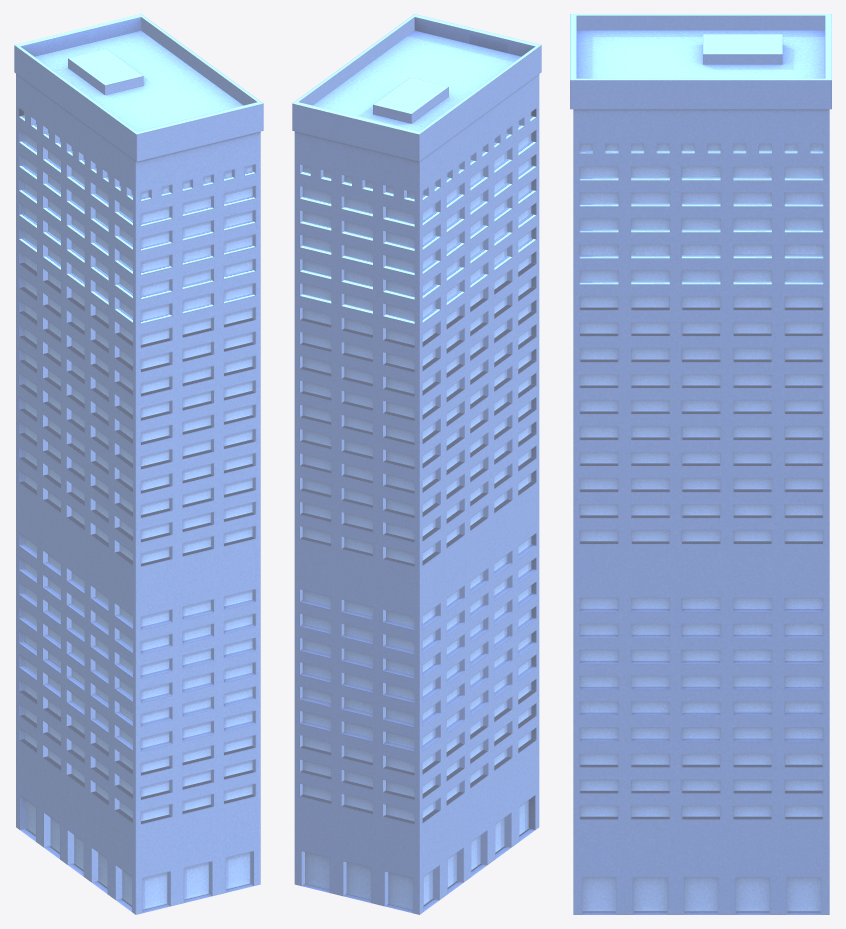
Rendered from 450_park_on.glb.
3 renders of one model, left to right at view 1: azimuth 30°, elevation 25°; view 2: azimuth 150°, elevation 25°; view 3: azimuth 270°, elevation 25°, orthographic. The views are drawn at different scales.
Parts seen in each view (by area): view 1: Empty_Mesh; view 2: Empty_Mesh; view 3: Empty_Mesh.
Boxes of the visible parts, x1,y1,x2,y2 form: Empty_Mesh: (14,14,263,914); Empty_Mesh: (292,14,541,914); Empty_Mesh: (570,14,831,914).
Size of the model in its own units: 3.43 by 20.12 by 5.71.
Materials: 1 (1 with a texture image).
